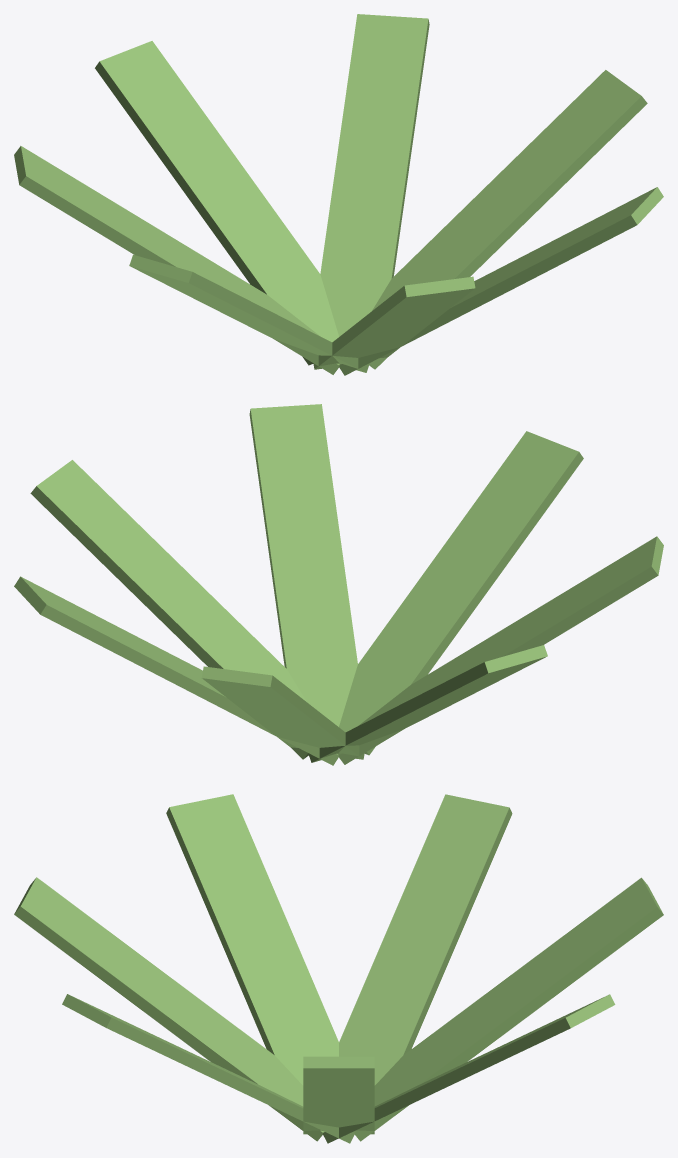
File: SM_Fern.fbx
The picture shows the model from 3 angles, top to bottom: view 1: azimuth 30°, elevation 25°; view 2: azimuth 150°, elevation 25°; view 3: azimuth 270°, elevation 25°; orthographic projection.
Parts seen in each view (by area): view 1: SM_Fern; view 2: SM_Fern; view 3: SM_Fern.
Part boxes in pixels (box(x1,y1,x2,y2)): SM_Fern: box(14, 14, 663, 375); SM_Fern: box(14, 404, 663, 765); SM_Fern: box(14, 794, 663, 1143).
Bounding box in the file's own units: 1.07 × 0.3835 × 1.09.
